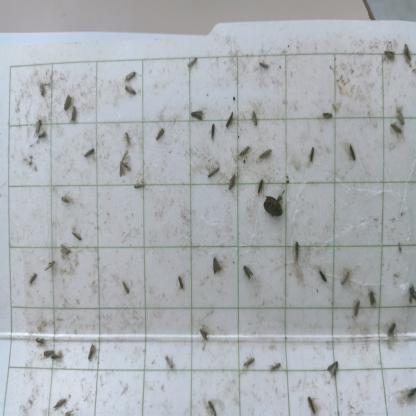prays_oleae: (182, 100, 210, 132), (113, 149, 133, 183), (286, 239, 306, 269), (207, 251, 228, 278), (326, 350, 344, 379), (337, 260, 353, 292), (365, 282, 381, 313), (42, 253, 61, 279), (84, 334, 98, 368), (254, 144, 275, 166), (303, 392, 322, 416), (55, 240, 76, 261), (203, 159, 221, 182), (151, 125, 168, 149), (391, 120, 405, 148), (384, 318, 398, 346), (196, 323, 210, 349), (346, 138, 360, 164), (380, 46, 397, 67), (237, 141, 251, 166), (220, 111, 235, 134), (182, 54, 200, 73), (248, 107, 261, 133), (242, 349, 256, 373), (318, 260, 330, 288), (306, 144, 318, 172), (394, 102, 406, 129), (350, 293, 362, 320), (241, 266, 258, 285), (62, 184, 75, 208), (122, 82, 140, 99), (69, 226, 86, 244), (51, 393, 67, 412), (174, 269, 186, 294), (401, 43, 412, 69), (80, 148, 102, 160), (28, 266, 40, 288), (228, 169, 237, 198), (50, 349, 67, 364), (121, 278, 136, 295), (132, 181, 147, 198), (320, 106, 335, 123), (204, 397, 218, 415), (255, 175, 268, 194), (405, 382, 416, 404), (207, 119, 217, 143), (257, 58, 272, 74), (408, 280, 416, 310), (267, 359, 281, 376), (62, 90, 72, 113), (34, 332, 46, 351), (70, 103, 79, 127), (164, 352, 174, 372), (36, 79, 46, 98), (30, 118, 41, 135), (124, 130, 133, 147), (120, 70, 138, 78), (43, 347, 54, 360), (38, 131, 48, 141)
